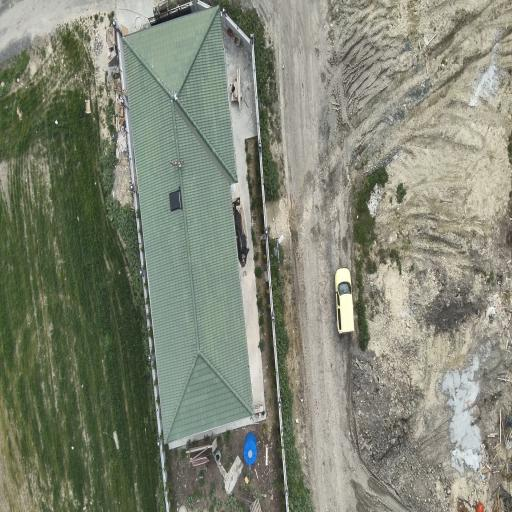car: (335, 268, 354, 333)
